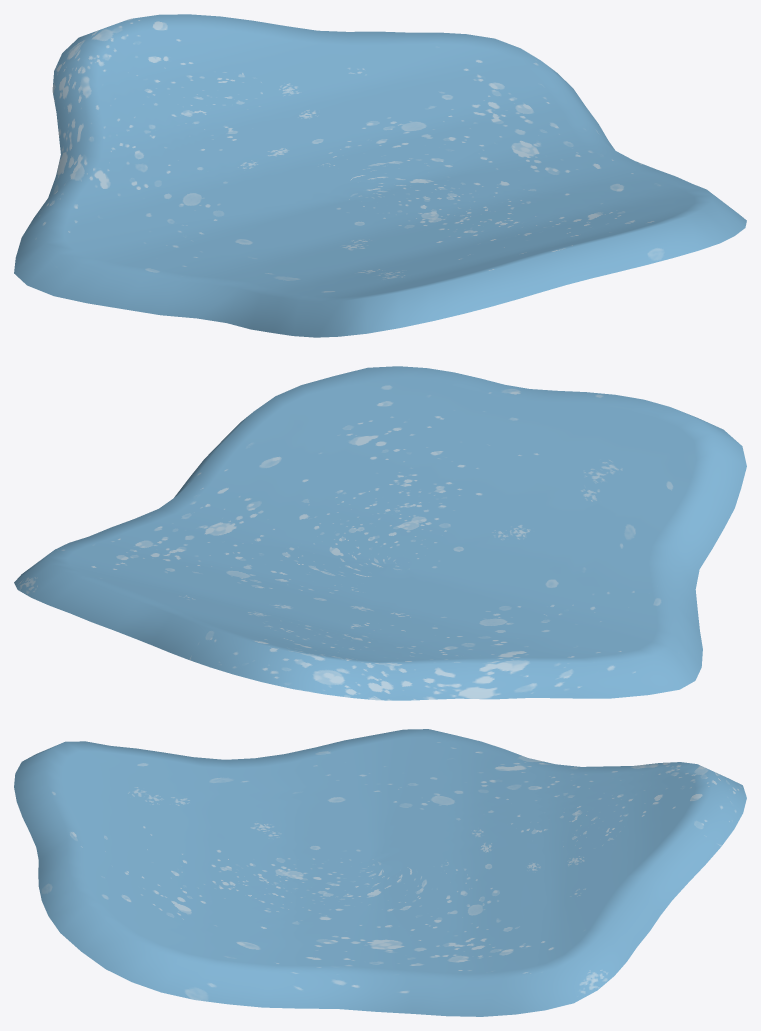
Rendered from Small Water Puddle.fbx.
3 views of the same model, one above another, from view 1: azimuth 30°, elevation 25°; view 2: azimuth 150°, elevation 25°; view 3: azimuth 270°, elevation 25° (orthographic). The views are drawn at different scales.
Parts seen in each view (by area): view 1: Small; view 2: Small; view 3: Small.
Boxes of the visible parts, x1=… form: Small: x1=14, y1=14, x2=746, y2=337; Small: x1=14, y1=366, x2=746, y2=700; Small: x1=14, y1=729, x2=746, y2=1016.
Bounding box in the file's own units: 17.23 × 2.36 × 18.92.
Materials: 1 (1 with a texture image).
